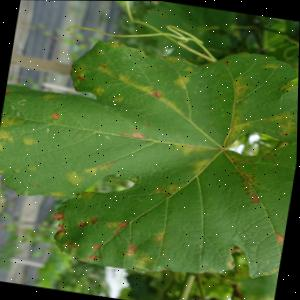Folha: (0, 17, 300, 296)
Fungo: (261, 104, 298, 135), (0, 117, 20, 157), (173, 138, 214, 157), (228, 73, 253, 100), (174, 62, 195, 90), (190, 156, 214, 180), (128, 251, 153, 273), (154, 180, 178, 200), (268, 227, 287, 251), (64, 169, 88, 186), (256, 148, 280, 165), (119, 126, 148, 140), (109, 218, 134, 234), (101, 37, 125, 53), (77, 214, 100, 230), (278, 80, 299, 95), (240, 171, 261, 186), (150, 229, 168, 244), (247, 192, 263, 205), (21, 136, 38, 147), (148, 87, 163, 99), (126, 243, 139, 256), (53, 211, 65, 223), (87, 254, 102, 263), (111, 95, 124, 104), (49, 112, 61, 121), (97, 61, 110, 69), (77, 221, 88, 229), (92, 245, 103, 252), (77, 75, 86, 82), (4, 89, 13, 96)
